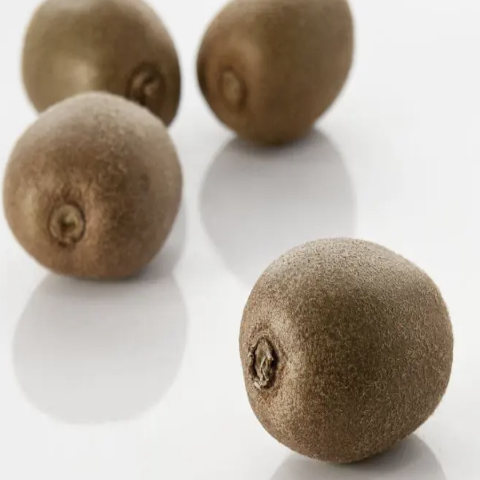kiwi: (219, 221, 473, 477), (0, 90, 208, 298)
